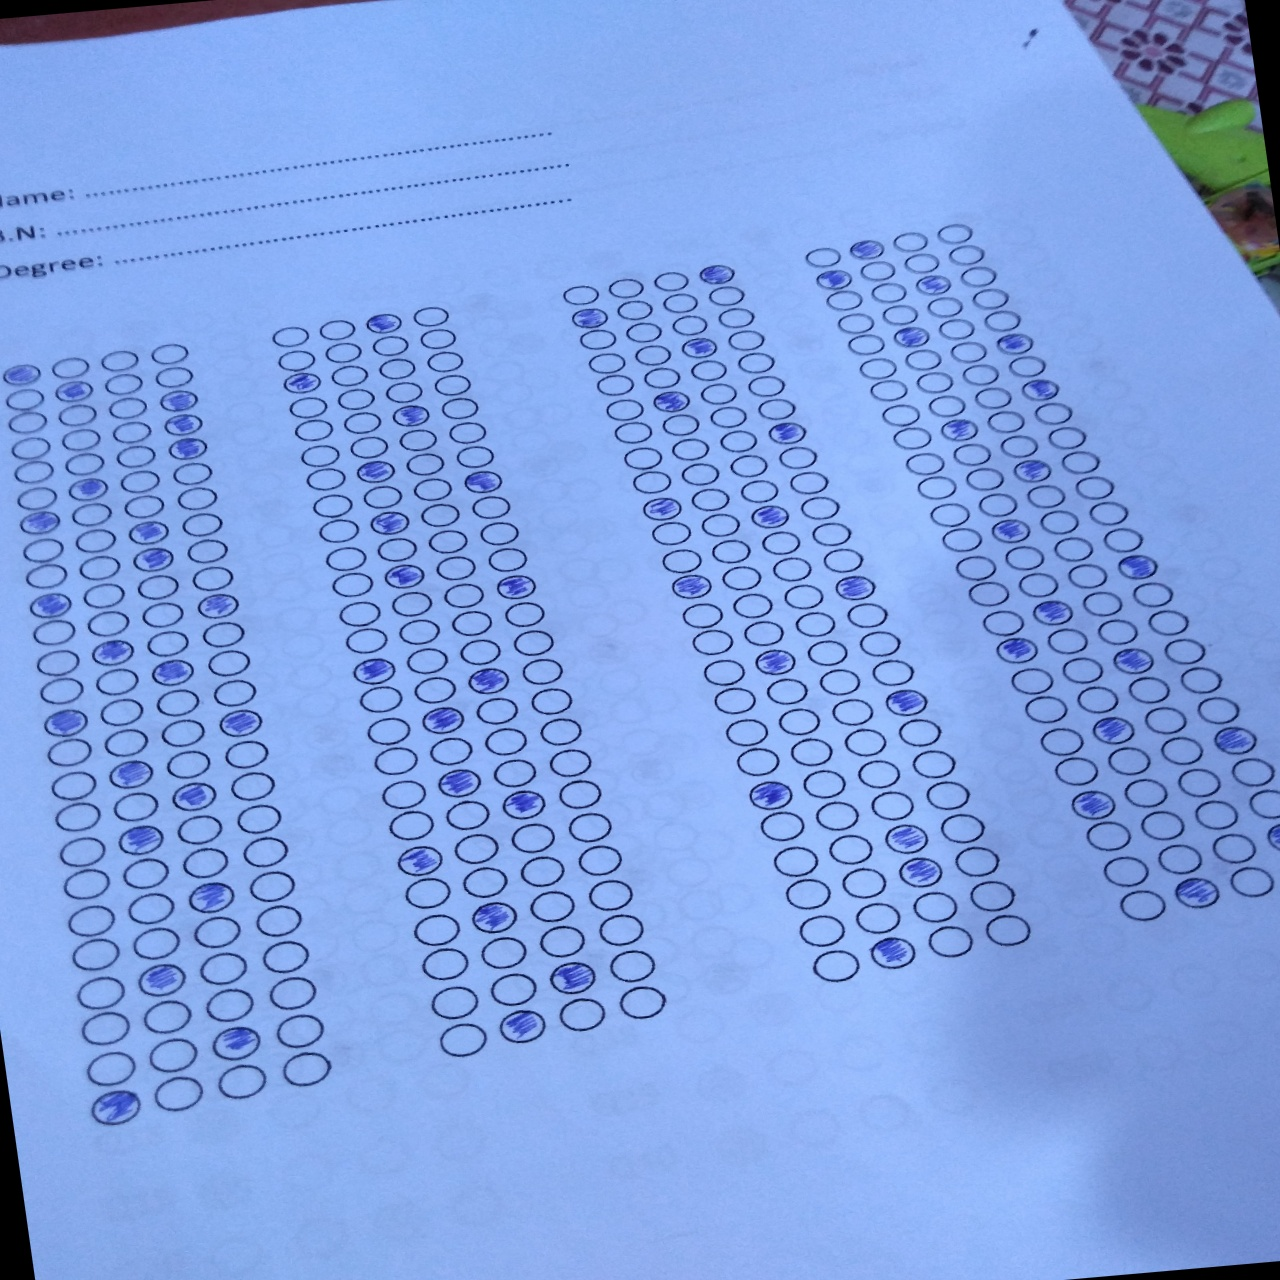not-c: (277, 1048, 333, 1091), (1099, 850, 1158, 891), (145, 1033, 200, 1076), (213, 1058, 268, 1102), (1080, 817, 1139, 857), (1153, 836, 1211, 877), (1208, 828, 1266, 869), (1110, 885, 1167, 926), (83, 1044, 138, 1087), (150, 1071, 205, 1114), (195, 948, 250, 990), (1225, 862, 1280, 904), (79, 1008, 135, 1049), (72, 972, 129, 1012), (595, 910, 651, 949), (417, 944, 474, 982), (767, 840, 821, 880), (795, 910, 849, 949), (855, 754, 908, 794), (116, 855, 171, 893), (411, 911, 467, 949), (847, 897, 903, 935), (779, 876, 835, 914), (965, 874, 1020, 913), (981, 910, 1035, 948), (572, 839, 626, 878), (478, 932, 532, 971), (556, 993, 610, 1032), (537, 921, 591, 960), (427, 982, 481, 1021), (924, 922, 978, 961), (836, 864, 890, 903), (910, 888, 964, 927), (894, 714, 948, 753), (937, 808, 990, 846), (436, 1021, 491, 1058), (400, 873, 455, 911), (922, 777, 978, 815), (190, 911, 243, 949), (259, 939, 312, 978), (617, 983, 670, 1021), (581, 874, 635, 912), (457, 862, 511, 899), (527, 887, 581, 925), (515, 852, 568, 890), (824, 831, 878, 869), (808, 946, 862, 983), (869, 783, 922, 821), (948, 843, 1002, 880), (486, 969, 542, 1006), (246, 866, 298, 905), (125, 888, 177, 927), (204, 985, 256, 1023), (267, 971, 319, 1009), (142, 998, 195, 1035), (64, 903, 117, 940), (128, 926, 181, 964), (605, 947, 659, 983), (905, 745, 959, 782), (274, 1012, 326, 1049), (254, 901, 306, 939), (70, 933, 122, 971), (52, 799, 105, 835), (154, 715, 205, 751), (207, 675, 263, 709), (110, 788, 163, 823), (154, 686, 206, 721), (179, 844, 229, 880), (163, 747, 212, 783), (43, 734, 93, 770), (95, 695, 149, 728), (101, 726, 152, 760), (173, 813, 225, 847), (57, 866, 109, 900), (240, 833, 290, 869), (441, 796, 490, 831), (49, 765, 98, 801), (1094, 613, 1143, 648), (525, 685, 576, 719), (57, 835, 108, 869), (1138, 806, 1189, 840), (481, 726, 530, 760), (726, 588, 775, 622), (729, 745, 778, 779), (510, 821, 559, 855), (781, 580, 830, 614), (785, 734, 835, 768), (232, 801, 281, 835), (354, 683, 403, 717), (839, 724, 888, 758), (1057, 651, 1107, 685), (1016, 567, 1065, 601), (1155, 731, 1204, 765), (1141, 702, 1190, 736), (1141, 604, 1190, 638), (816, 542, 865, 576), (809, 515, 858, 549), (204, 646, 254, 679), (563, 809, 613, 842), (762, 676, 812, 709), (699, 656, 749, 689), (449, 832, 499, 865), (384, 809, 435, 842), (830, 696, 880, 729), (1035, 723, 1085, 756), (1042, 625, 1092, 658), (1226, 754, 1276, 787), (1035, 506, 1085, 539), (220, 737, 268, 771), (377, 772, 425, 806), (370, 744, 418, 778), (1107, 743, 1155, 777), (1194, 693, 1242, 727), (1051, 533, 1099, 567), (452, 635, 504, 667), (490, 756, 539, 789), (545, 747, 594, 779), (557, 778, 606, 811), (535, 715, 584, 748), (741, 618, 790, 651), (757, 810, 806, 843), (723, 716, 772, 749), (710, 683, 760, 716), (689, 628, 738, 661), (425, 735, 475, 768), (767, 552, 816, 585), (811, 799, 860, 832), (802, 768, 851, 801), (777, 706, 826, 738), (403, 645, 452, 678), (394, 615, 443, 648), (1050, 755, 1099, 788), (843, 595, 892, 628), (856, 626, 905, 659), (816, 665, 865, 697), (870, 655, 919, 688), (898, 716, 947, 749), (1020, 692, 1069, 724), (1193, 797, 1242, 830), (1071, 685, 1121, 717), (1000, 542, 1049, 574), (962, 577, 1012, 610), (948, 552, 998, 585), (937, 522, 986, 554), (924, 496, 973, 529), (1077, 587, 1126, 620), (1124, 674, 1173, 707), (1178, 662, 1227, 695), (1160, 634, 1210, 667), (1083, 495, 1132, 527), (1096, 522, 1145, 554), (445, 607, 493, 640), (474, 695, 522, 728), (772, 707, 821, 740), (227, 770, 275, 803), (411, 672, 459, 704), (365, 715, 413, 748), (1003, 665, 1051, 697), (1119, 776, 1167, 809), (976, 606, 1024, 639), (1175, 765, 1223, 798), (1126, 577, 1175, 610), (1065, 470, 1114, 503), (1065, 560, 1114, 593), (389, 588, 438, 620), (94, 663, 139, 697), (139, 599, 188, 629), (321, 544, 370, 573), (75, 553, 124, 583), (34, 648, 83, 678), (182, 537, 229, 567), (959, 462, 1006, 492), (803, 636, 847, 668), (900, 452, 945, 484), (1058, 444, 1103, 476), (1033, 399, 1077, 430), (1046, 423, 1090, 455), (200, 620, 248, 649), (327, 361, 375, 390), (343, 625, 392, 654), (336, 598, 384, 627), (327, 568, 375, 598), (316, 516, 365, 545), (9, 433, 57, 462), (678, 600, 726, 629), (97, 345, 143, 375), (54, 399, 100, 429), (509, 627, 554, 658), (318, 339, 367, 367), (177, 510, 224, 539), (559, 277, 606, 306), (410, 299, 457, 328), (111, 442, 158, 471), (285, 393, 332, 422), (338, 409, 384, 438), (312, 491, 359, 520), (297, 440, 343, 469), (29, 618, 76, 647), (4, 409, 50, 438), (67, 501, 114, 530), (1007, 349, 1050, 381), (48, 353, 93, 383), (792, 608, 837, 639), (359, 483, 407, 511), (346, 433, 394, 461), (290, 418, 338, 447), (23, 561, 72, 590), (20, 535, 68, 563), (144, 629, 192, 658), (73, 526, 121, 554), (57, 452, 105, 481), (147, 338, 192, 367), (109, 418, 155, 448), (651, 264, 696, 293), (312, 314, 358, 343), (267, 321, 313, 350), (104, 393, 150, 422), (518, 658, 564, 687), (1022, 479, 1064, 511), (974, 486, 1017, 517), (188, 565, 234, 593), (169, 461, 216, 489), (100, 372, 147, 400), (334, 386, 381, 414), (11, 484, 57, 512), (11, 458, 57, 486), (84, 611, 131, 639), (79, 583, 125, 611), (39, 676, 86, 704), (1, 384, 47, 413), (441, 581, 486, 610), (937, 315, 982, 343), (982, 407, 1028, 435), (136, 572, 179, 601), (998, 433, 1041, 462), (302, 463, 349, 490), (772, 442, 819, 469), (733, 350, 779, 377), (172, 484, 217, 512), (577, 325, 621, 353), (274, 345, 319, 373), (888, 424, 933, 452), (901, 343, 946, 372), (855, 354, 899, 382), (972, 382, 1016, 410), (925, 392, 969, 420), (933, 219, 978, 247), (1244, 787, 1280, 821), (501, 601, 546, 628), (425, 527, 471, 554), (591, 372, 636, 399), (584, 350, 629, 377), (629, 468, 675, 495), (726, 325, 771, 352), (959, 360, 1005, 387), (942, 240, 988, 267), (59, 427, 102, 455), (384, 377, 428, 406), (689, 486, 733, 515), (949, 442, 993, 470), (981, 305, 1024, 333), (968, 282, 1012, 311), (429, 372, 474, 399), (397, 425, 442, 452), (484, 545, 529, 572), (454, 441, 498, 468), (447, 418, 491, 445), (418, 501, 463, 527), (411, 474, 456, 501), (424, 526, 469, 553), (602, 395, 647, 422), (629, 342, 674, 369), (659, 549, 703, 576), (648, 519, 693, 546), (728, 452, 772, 479), (707, 403, 751, 430), (709, 537, 754, 564), (658, 411, 702, 438), (787, 469, 831, 496), (716, 305, 761, 332), (877, 399, 921, 425), (375, 535, 420, 561), (418, 348, 467, 373), (434, 553, 479, 579), (618, 444, 663, 470), (719, 564, 764, 590), (697, 512, 743, 538), (753, 396, 798, 422), (368, 332, 411, 359), (658, 411, 701, 438), (690, 358, 734, 384), (675, 462, 719, 489), (668, 436, 712, 463), (743, 372, 787, 399), (798, 492, 842, 519), (913, 368, 956, 395), (865, 376, 908, 403), (843, 331, 886, 358), (476, 520, 520, 546), (468, 495, 512, 520), (440, 396, 484, 422), (612, 418, 656, 444), (639, 365, 683, 390), (735, 477, 779, 503), (716, 427, 761, 452), (760, 529, 804, 554), (833, 312, 878, 338), (946, 339, 990, 365), (377, 355, 421, 381), (402, 451, 445, 477), (695, 380, 738, 406), (914, 474, 958, 499), (958, 264, 1002, 288), (612, 297, 654, 322), (416, 326, 459, 350), (890, 229, 933, 253), (922, 294, 966, 319), (822, 287, 865, 312), (111, 420, 152, 445), (123, 493, 164, 519), (118, 469, 159, 495), (669, 311, 710, 336), (602, 275, 647, 299), (878, 302, 921, 326), (856, 258, 899, 281), (799, 245, 843, 268), (706, 284, 747, 308), (659, 290, 700, 314), (900, 248, 942, 272), (151, 365, 195, 387), (622, 321, 663, 345), (869, 280, 910, 302), (1278, 855, 1280, 896)
taken-c: (86, 1085, 149, 1128), (493, 1003, 550, 1047), (1170, 873, 1228, 914), (863, 933, 922, 973), (206, 1022, 266, 1062), (545, 956, 602, 996), (892, 852, 949, 892), (134, 961, 192, 998), (101, 757, 159, 792), (1065, 787, 1119, 824), (879, 685, 934, 721), (881, 821, 937, 855), (1085, 713, 1138, 748), (471, 898, 522, 934), (346, 654, 399, 688), (1026, 595, 1078, 629), (186, 878, 236, 914), (1210, 722, 1261, 756), (1107, 644, 1157, 678), (215, 706, 265, 738), (436, 765, 486, 798), (41, 704, 89, 738), (88, 636, 139, 668), (394, 844, 445, 876), (114, 823, 165, 855), (170, 779, 222, 811), (465, 665, 515, 697), (1112, 550, 1162, 583), (26, 588, 76, 620), (501, 789, 551, 821), (421, 704, 471, 736), (987, 515, 1037, 546), (359, 306, 410, 336), (828, 573, 880, 602), (995, 633, 1042, 666), (745, 778, 796, 809), (61, 474, 113, 503), (47, 377, 98, 407), (122, 518, 171, 547), (750, 648, 799, 678), (149, 658, 197, 687), (165, 434, 211, 464), (12, 509, 61, 537), (1, 360, 48, 389), (367, 509, 414, 538), (937, 416, 983, 445), (159, 410, 206, 440), (459, 468, 510, 495), (647, 387, 695, 415), (747, 503, 795, 531), (668, 573, 716, 601), (491, 573, 539, 601), (695, 259, 741, 288), (157, 384, 203, 414), (567, 302, 614, 331), (132, 546, 179, 574), (640, 493, 687, 522), (1016, 375, 1063, 403), (888, 322, 935, 350), (765, 418, 810, 448), (382, 561, 428, 590), (678, 334, 723, 362), (1012, 456, 1054, 486), (350, 458, 400, 484), (279, 369, 326, 396), (193, 591, 240, 618), (913, 268, 958, 297), (993, 331, 1040, 355), (843, 237, 888, 261), (389, 403, 433, 429), (810, 266, 855, 291), (1262, 815, 1280, 856)
